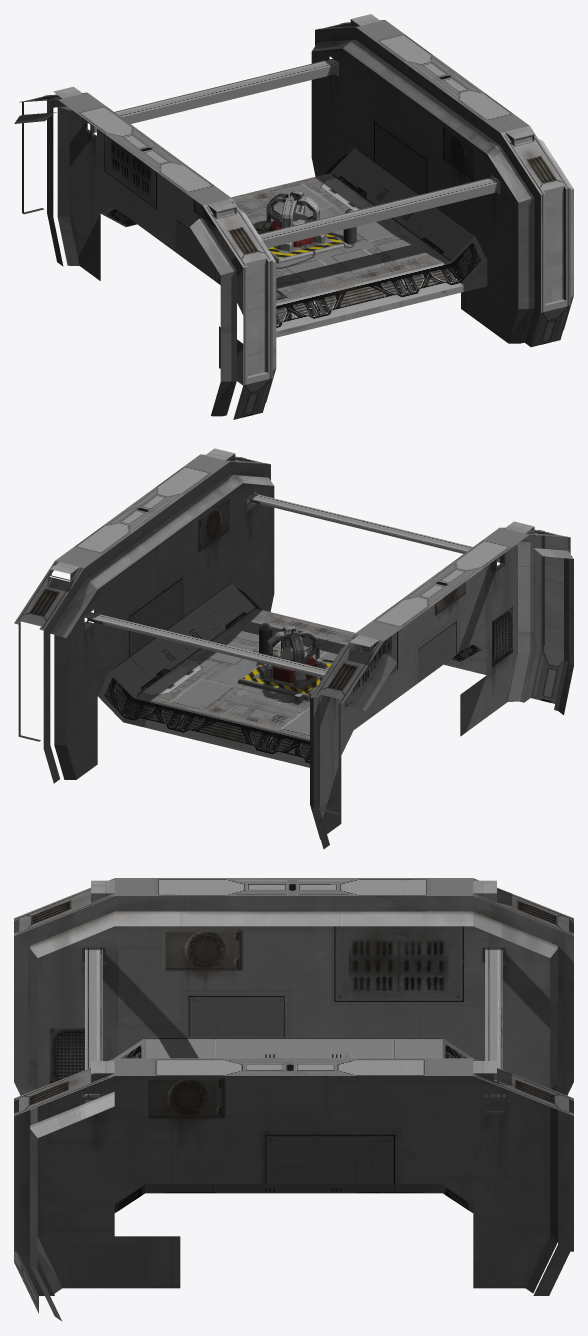
File: ML2_Laser_Spin.FBX
3 views of the same model, one above another, from view 1: azimuth 30°, elevation 25°; view 2: azimuth 150°, elevation 25°; view 3: azimuth 270°, elevation 25° (orthographic). The views are drawn at different scales.
Visible parts, largest first — view 1: ML2_Laser_Spin; view 2: ML2_Laser_Spin; view 3: ML2_Laser_Spin.
Boxes of the visible parts, box(x1,y1,x2,y2) form: ML2_Laser_Spin: box(14, 14, 573, 419); ML2_Laser_Spin: box(14, 448, 573, 849); ML2_Laser_Spin: box(14, 878, 573, 1321).
Size of the model in its own units: 29.69 by 15.41 by 32.87.
1 material, 1 textured.
